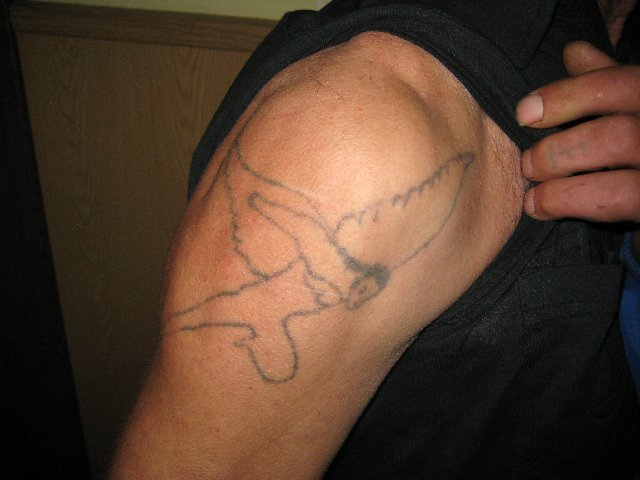tatu1_angel: (229, 138, 460, 393)
